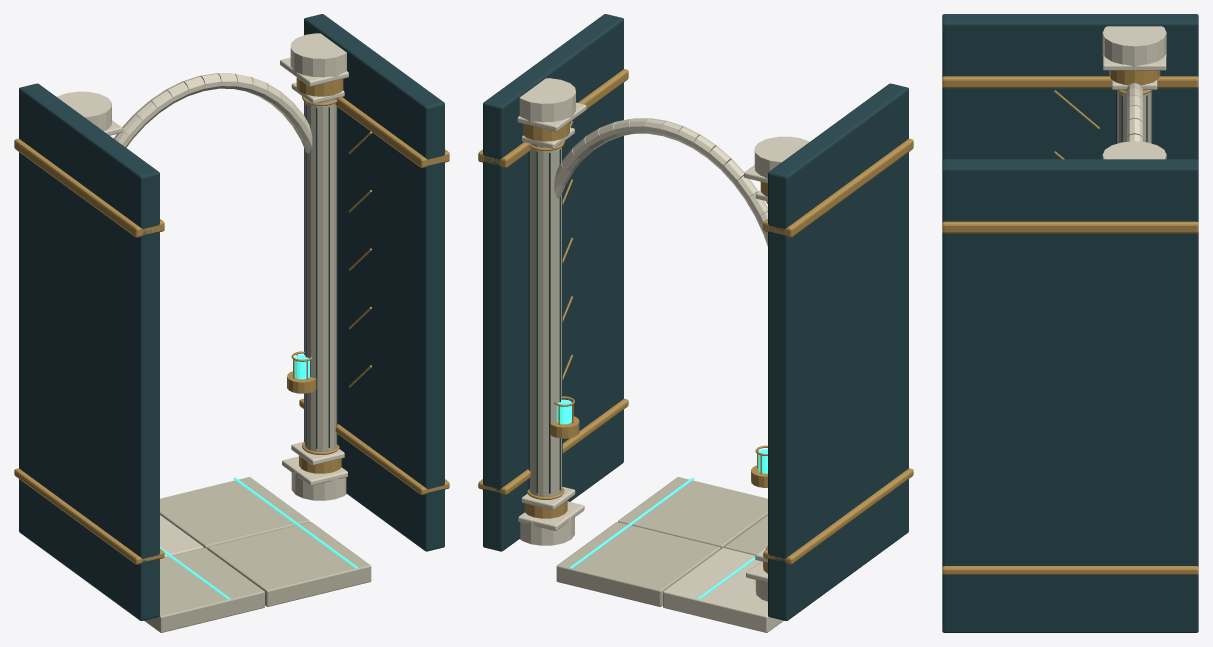
The model's file is hall_corridor.fbx.
3 renders of one model, left to right at view 1: azimuth 30°, elevation 25°; view 2: azimuth 150°, elevation 25°; view 3: azimuth 270°, elevation 25°, orthographic. The views are drawn at different scales.
Parts seen in each view (by area): view 1: hall_corridor_Midnight teal, hall_corridor_Ivory limestone, hall_corridor_Carved limestone, hall_corridor_Aged brass, hall_corridor_Turquoise inlay; view 2: hall_corridor_Midnight teal, hall_corridor_Ivory limestone, hall_corridor_Carved limestone, hall_corridor_Aged brass, hall_corridor_Turquoise inlay; view 3: hall_corridor_Midnight teal, hall_corridor_Aged brass, hall_corridor_Carved limestone, hall_corridor_Ivory limestone.
Boxes of the visible parts, x1,y1,x2,y2 form: hall_corridor_Midnight teal: (19,14,444,620); hall_corridor_Ivory limestone: (144,99,371,632); hall_corridor_Carved limestone: (57,33,348,557); hall_corridor_Aged brass: (14,77,449,564); hall_corridor_Turquoise inlay: (160,354,357,599); hall_corridor_Midnight teal: (483,14,908,620); hall_corridor_Ivory limestone: (529,143,767,606); hall_corridor_Carved limestone: (517,78,809,632); hall_corridor_Aged brass: (478,69,913,573); hall_corridor_Turquoise inlay: (556,399,767,599); hall_corridor_Midnight teal: (942,14,1198,632); hall_corridor_Aged brass: (942,70,1198,574); hall_corridor_Carved limestone: (1102,26,1166,159); hall_corridor_Ivory limestone: (1117,90,1151,143).
Size of the model in its own units: 591 by 830 by 400.
